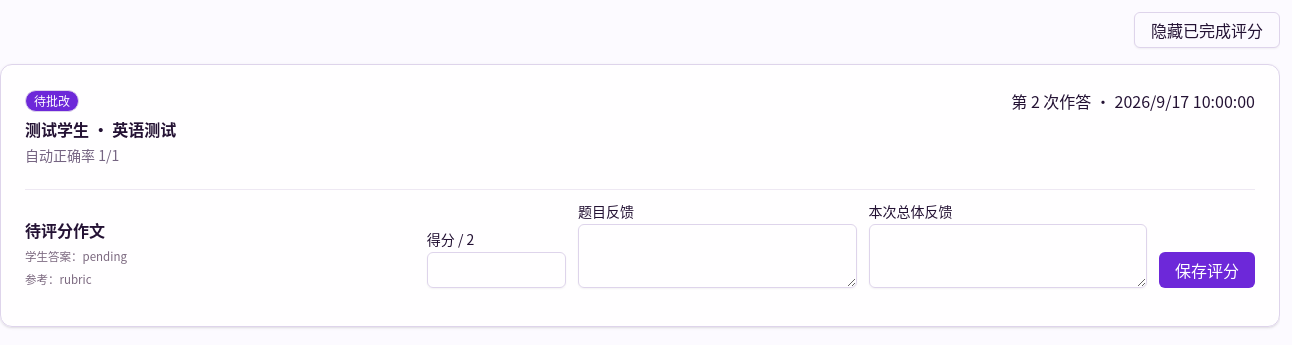
Test: review completion filter › immediately removes a newly saved manual grade in hidden mode
This screenshot has width=1292, height=345.
Click the button "隐藏已完成评分" at (1207, 30), box [1134,12,1280,48]
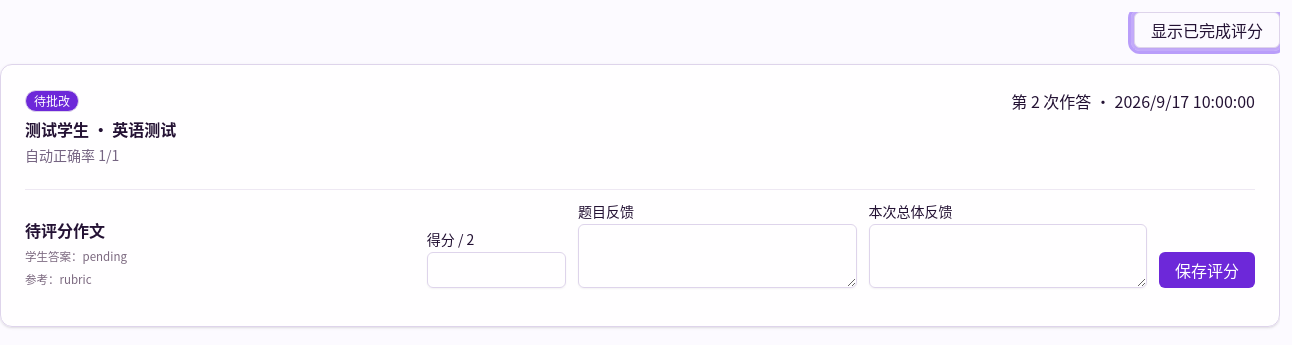
Type "1" into the number field labelled "得分 / 2" at (496, 270), box [427,252,566,288]
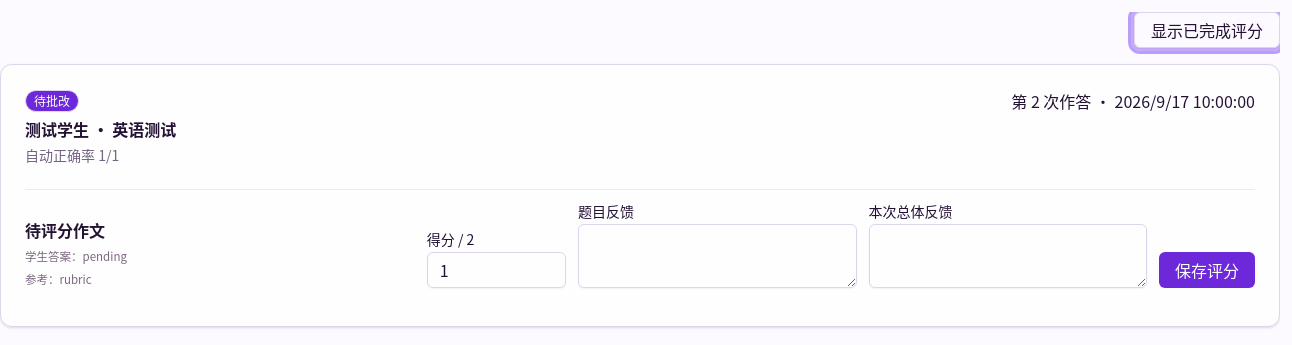
Click the button "保存评分" at (1207, 270), box [1159,252,1255,288]
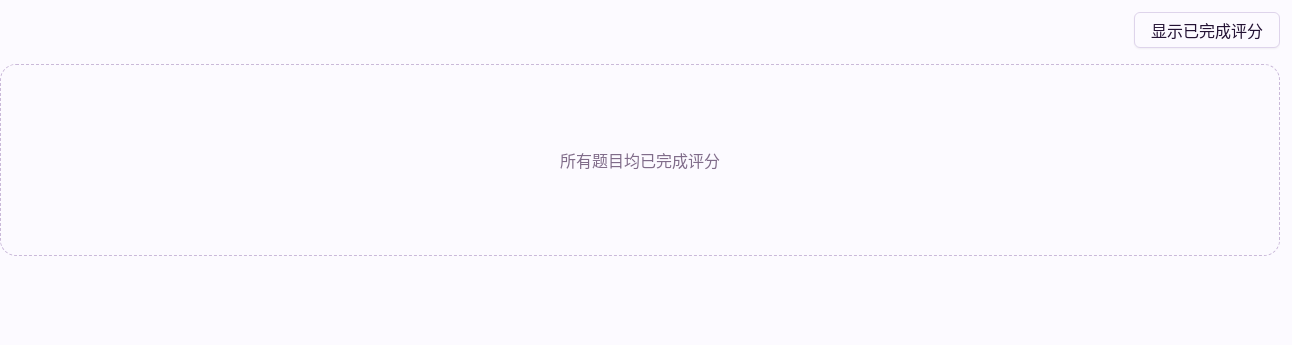
Now the form with test id "review-response-manual-pending" is gone
Now the text "所有题目均已完成评分" is shown, box [0,64,1280,256]
